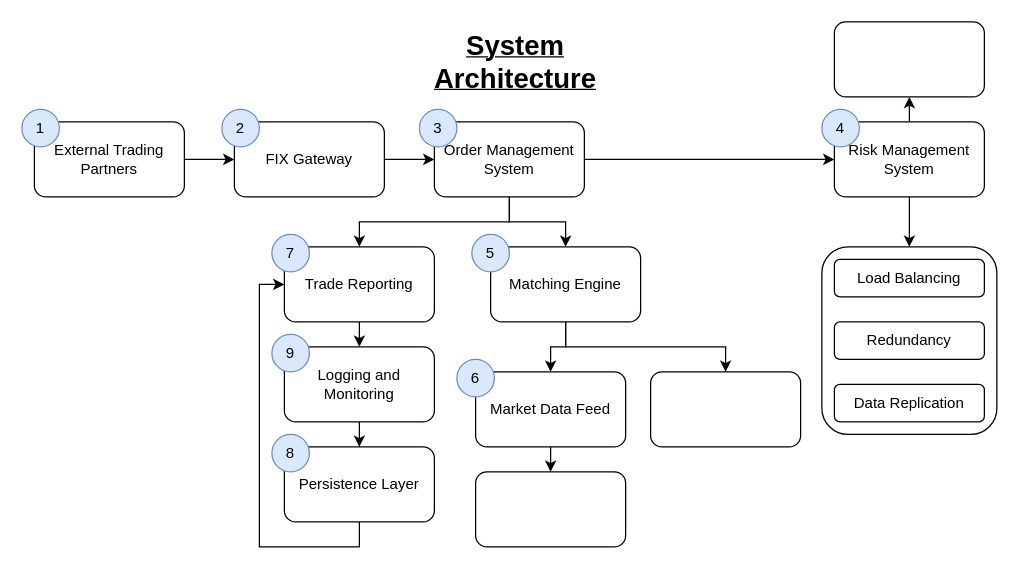
Some shapes in this 1019 by 579 pixel diagram are drawn without their labels. The centre of each missing label's shape, as x and y in pixels:
"Clearing Houses" belongs at point 908,59.
"Data Providers" belongs at point 550,509.
"Exchanges" belongs at point 725,409.
